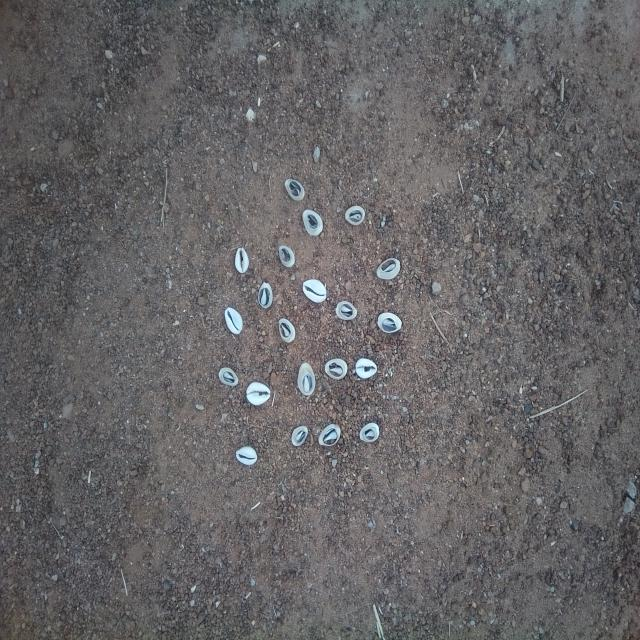facedown: (374, 310, 406, 337), (373, 253, 402, 282), (296, 359, 317, 399), (301, 206, 325, 239), (316, 422, 343, 451), (356, 421, 383, 450), (282, 176, 308, 203), (323, 356, 350, 382), (332, 298, 360, 323), (214, 364, 241, 389), (276, 316, 298, 346), (256, 279, 276, 311), (343, 203, 368, 228), (278, 242, 298, 272), (290, 425, 310, 449)
faceup: (300, 277, 331, 306), (222, 304, 246, 338), (243, 381, 274, 406), (231, 244, 255, 276), (235, 444, 262, 469), (352, 358, 379, 382)
